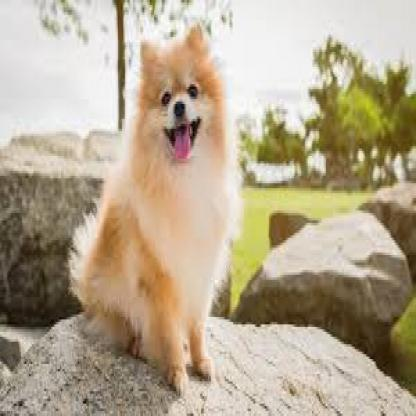Pomeranian: (66, 22, 239, 395)
